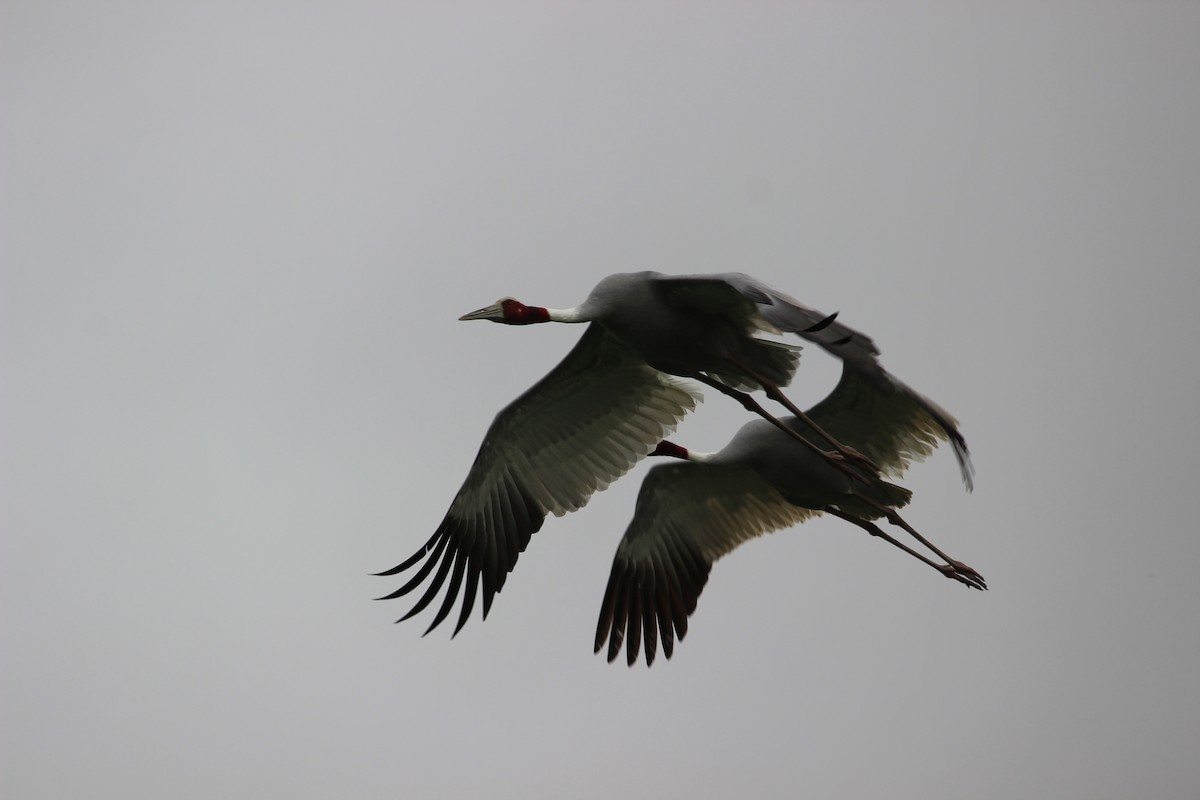crane: (406, 258, 892, 472), (630, 408, 1008, 618)
